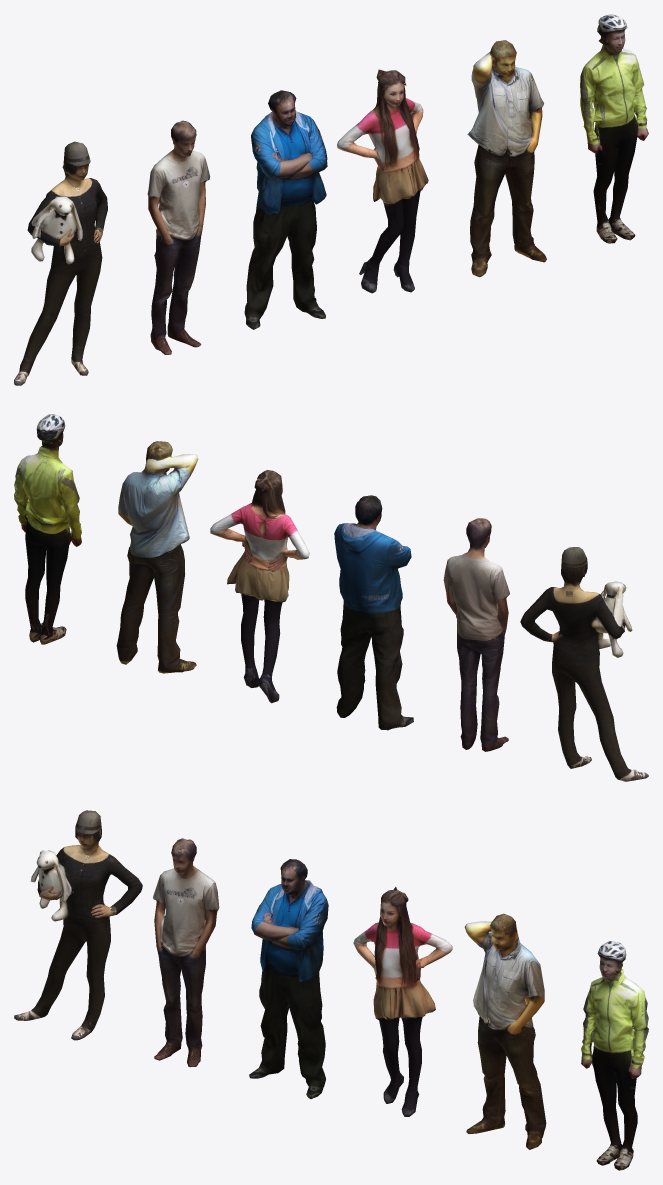
Rendered from ppl_low.glb.
3 renders of one model, top to bottom at view 1: azimuth 30°, elevation 25°; view 2: azimuth 150°, elevation 25°; view 3: azimuth 330°, elevation 25°, orthographic.
Parts seen in each view (by area): view 1: 03_person.003, 05_person.003, 01_person.003, 06_person.003, 02_person.003, 04_person.003; view 2: 03_person.003, 05_person.003, 01_person.003, 02_person.003, 04_person.003, 06_person.003; view 3: 03_person.003, 05_person.003, 01_person.003, 06_person.003, 02_person.003, 04_person.003.
Boxes of the visible parts, box(x1,y1,x2,y2) form: 03_person.003: box(244, 90, 327, 329); 05_person.003: box(467, 40, 546, 277); 01_person.003: box(14, 141, 107, 385); 06_person.003: box(580, 14, 648, 243); 02_person.003: box(147, 120, 210, 354); 04_person.003: box(337, 69, 428, 293); 03_person.003: box(334, 495, 413, 730); 05_person.003: box(116, 441, 198, 673); 01_person.003: box(520, 547, 648, 781); 02_person.003: box(443, 518, 509, 751); 04_person.003: box(210, 470, 309, 703); 06_person.003: box(14, 414, 81, 644); 03_person.003: box(249, 859, 328, 1098); 05_person.003: box(464, 913, 546, 1149); 01_person.003: box(14, 810, 142, 1040); 06_person.003: box(581, 941, 648, 1170); 02_person.003: box(153, 838, 219, 1067); 04_person.003: box(353, 887, 452, 1116).
Bounding box in the file's own units: 296 × 101 × 28.26.
Materials: 6 (6 with a texture image).
